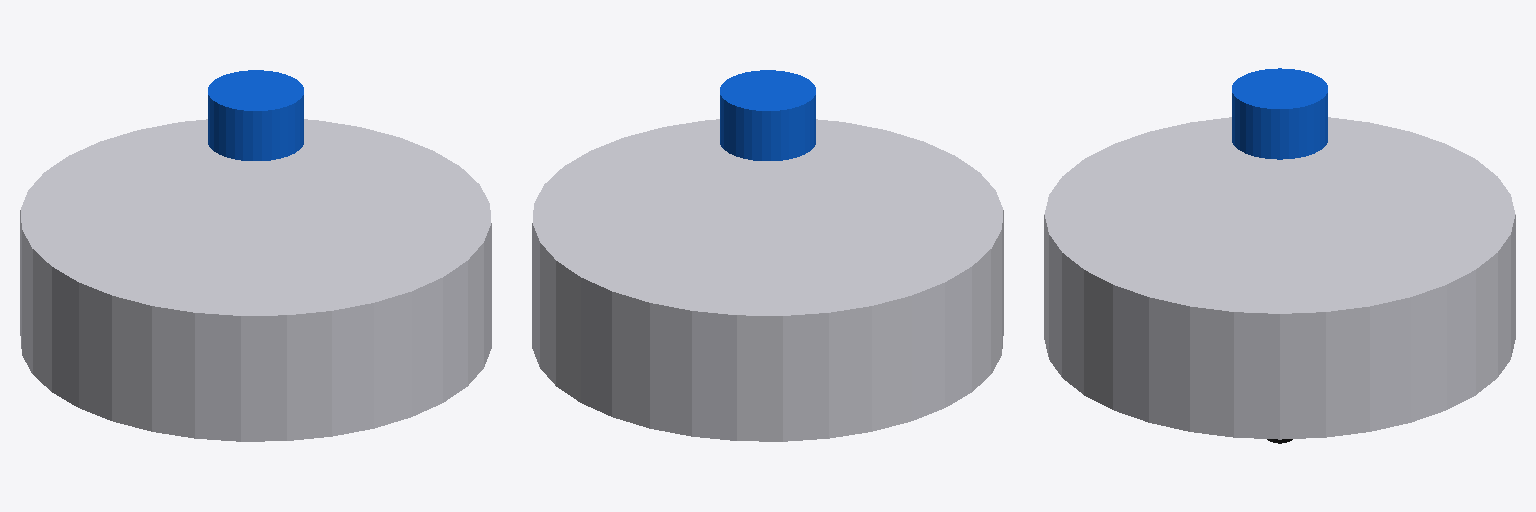
robot.urdf — field_robot:
<?xml version="1.0"?>
<!-- GENERATED by tools/generate_models.py from config/robot_field.yaml. Do not edit; run `make generate`. -->
<robot name="field_robot">
  <material name="body"><color rgba="0.85 0.85 0.88 1"/></material>
  <material name="dark"><color rgba="0.15 0.15 0.15 1"/></material>
  <material name="accent"><color rgba="0.1 0.45 0.9 1"/></material>
  <link name="base_footprint"/>
  <joint name="base_joint" type="fixed"><parent link="base_footprint"/><child link="base_link"/><origin xyz="0 0 0.036" rpy="0 0 0"/></joint>
  <link name="base_link">
    <visual><origin xyz="0 0 0.034" rpy="0 0 0"/><geometry><cylinder radius="0.17" length="0.1"/></geometry><material name="body"/></visual>
    <collision><origin xyz="0 0 0.034" rpy="0 0 0"/><geometry><cylinder radius="0.17" length="0.1"/></geometry></collision>
    <inertial><origin xyz="0 0 0.034" rpy="0 0 0"/><mass value="3.5"/><inertia ixx="2.820417e-02" ixy="0" ixz="0" iyy="2.820417e-02" iyz="0" izz="5.057500e-02"/></inertial>
  </link>
  <link name="left_wheel_link">
    <visual><origin xyz="0 0 0" rpy="-1.570796 0 0"/><geometry><cylinder radius="0.036" length="0.026"/></geometry><material name="dark"/></visual>
    <collision><origin xyz="0 0 0" rpy="-1.570796 0 0"/><geometry><cylinder radius="0.036" length="0.026"/></geometry></collision>
    <inertial><origin xyz="0 0 0" rpy="0 0 0"/><mass value="0.15"/><inertia ixx="5.705000e-05" ixy="0" ixz="0" iyy="9.720000e-05" iyz="0" izz="5.705000e-05"/></inertial>
  </link>
  <joint name="left_wheel_joint" type="continuous"><parent link="base_link"/><child link="left_wheel_link"/><origin xyz="0 0.1175 0" rpy="0 0 0"/><axis xyz="0 1 0"/></joint>
  <link name="right_wheel_link">
    <visual><origin xyz="0 0 0" rpy="-1.570796 0 0"/><geometry><cylinder radius="0.036" length="0.026"/></geometry><material name="dark"/></visual>
    <collision><origin xyz="0 0 0" rpy="-1.570796 0 0"/><geometry><cylinder radius="0.036" length="0.026"/></geometry></collision>
    <inertial><origin xyz="0 0 0" rpy="0 0 0"/><mass value="0.15"/><inertia ixx="5.705000e-05" ixy="0" ixz="0" iyy="9.720000e-05" iyz="0" izz="5.705000e-05"/></inertial>
  </link>
  <joint name="right_wheel_joint" type="continuous"><parent link="base_link"/><child link="right_wheel_link"/><origin xyz="0 -0.1175 0" rpy="0 0 0"/><axis xyz="0 1 0"/></joint>
  <link name="front_caster_link">
    <visual><geometry><sphere radius="0.018"/></geometry><material name="dark"/></visual>
    <collision><geometry><sphere radius="0.018"/></geometry></collision>
    <inertial><origin xyz="0 0 0" rpy="0 0 0"/><mass value="0.05"/><inertia ixx="6.480000e-06" ixy="0" ixz="0" iyy="6.480000e-06" iyz="0" izz="6.480000e-06"/></inertial>
  </link>
  <joint name="front_caster_joint" type="fixed"><parent link="base_link"/><child link="front_caster_link"/><origin xyz="0.13 0 -0.018" rpy="0 0 0"/></joint>
  <link name="rear_caster_link">
    <visual><geometry><sphere radius="0.018"/></geometry><material name="dark"/></visual>
    <collision><geometry><sphere radius="0.018"/></geometry></collision>
    <inertial><origin xyz="0 0 0" rpy="0 0 0"/><mass value="0.05"/><inertia ixx="6.480000e-06" ixy="0" ixz="0" iyy="6.480000e-06" iyz="0" izz="6.480000e-06"/></inertial>
  </link>
  <joint name="rear_caster_joint" type="fixed"><parent link="base_link"/><child link="rear_caster_link"/><origin xyz="-0.13 0 -0.018" rpy="0 0 0"/></joint>
  <link name="laser_frame">
    <visual><geometry><cylinder radius="0.035" length="0.04"/></geometry><material name="accent"/></visual>
    <collision><geometry><cylinder radius="0.035" length="0.04"/></geometry></collision>
    <inertial><origin xyz="0 0 0" rpy="0 0 0"/><mass value="0.17"/><inertia ixx="7.472917e-05" ixy="0" ixz="0" iyy="7.472917e-05" iyz="0" izz="1.041250e-04"/></inertial>
  </link>
  <joint name="laser_joint" type="fixed"><parent link="base_link"/><child link="laser_frame"/><origin xyz="0 0 0.164" rpy="0 0 0"/></joint>
  <link name="imu_link"/>
  <joint name="imu_joint" type="fixed"><parent link="base_link"/><child link="imu_link"/><origin xyz="0 0 0.024" rpy="0 0 0"/></joint>
  <link name="camera_link"/>
  <joint name="camera_joint" type="fixed"><parent link="base_link"/><child link="camera_link"/><origin xyz="0.15 0 0.114" rpy="0 0 0"/></joint>
  <link name="camera_optical_frame"/>
  <joint name="camera_optical_joint" type="fixed"><parent link="camera_link"/><child link="camera_optical_frame"/><origin xyz="0 0 0" rpy="-1.570796 0 -1.570796"/></joint>
  <ros2_control name="field_robot_system" type="system">
    <hardware>
      <plugin>diffdrive_arduino/DiffDriveArduinoHardware</plugin>
      <param name="left_wheel_name">left_wheel_joint</param>
      <param name="right_wheel_name">right_wheel_joint</param>
      <param name="loop_rate">50</param>
      <param name="device">/tmp/eyesteer_mcu</param>
      <param name="baud_rate">57600</param>
      <param name="timeout_ms">1000</param>
      <param name="enc_counts_per_rev">1320</param>
      <param name="pid_p">20</param>
      <param name="pid_d">12</param>
      <param name="pid_i">0</param>
      <param name="pid_o">50</param>
    </hardware>
    <joint name="left_wheel_joint">
      <command_interface name="velocity"><param name="min">-20</param><param name="max">20</param></command_interface>
      <state_interface name="position"/>
      <state_interface name="velocity"/>
    </joint>
    <joint name="right_wheel_joint">
      <command_interface name="velocity"><param name="min">-20</param><param name="max">20</param></command_interface>
      <state_interface name="position"/>
      <state_interface name="velocity"/>
    </joint>
  </ros2_control>
</robot>

--- What the picture shows (computed from the rendered views, not written in the file) ---
The picture shows the robot from 3 angles, left to right: view 1: azimuth 30°, elevation 25°; view 2: azimuth 150°, elevation 25°; view 3: azimuth 270°, elevation 25°; orthographic projection.
Robot: field_robot — 10 links, 9 joints (2 continuous, 7 fixed); root link base_footprint; default pose: all joints at 0.
Links seen in each view (by area): view 1: base_link, laser_frame; view 2: base_link, laser_frame; view 3: base_link, laser_frame.
Boxes of the visible links, left/top/right/bottom form: base_link: left=20, top=119, right=491, bottom=441; laser_frame: left=208, top=70, right=303, bottom=160; base_link: left=532, top=119, right=1003, bottom=441; laser_frame: left=720, top=70, right=815, bottom=160; base_link: left=1044, top=117, right=1515, bottom=439; laser_frame: left=1232, top=68, right=1327, bottom=159.
Bounding box of the posed robot: 0.34 × 0.34 × 0.22 m (x, y, z).
Geometry: primitives only (box / cylinder / sphere), no mesh files.
